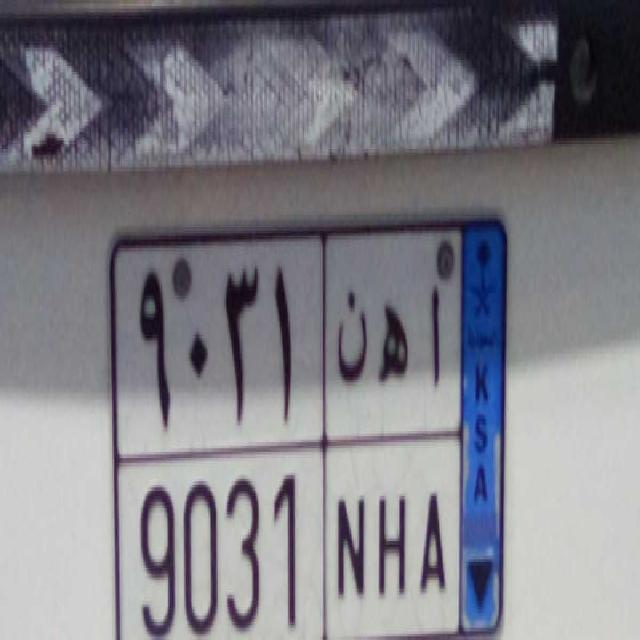license_plate: (118, 437, 460, 640)
